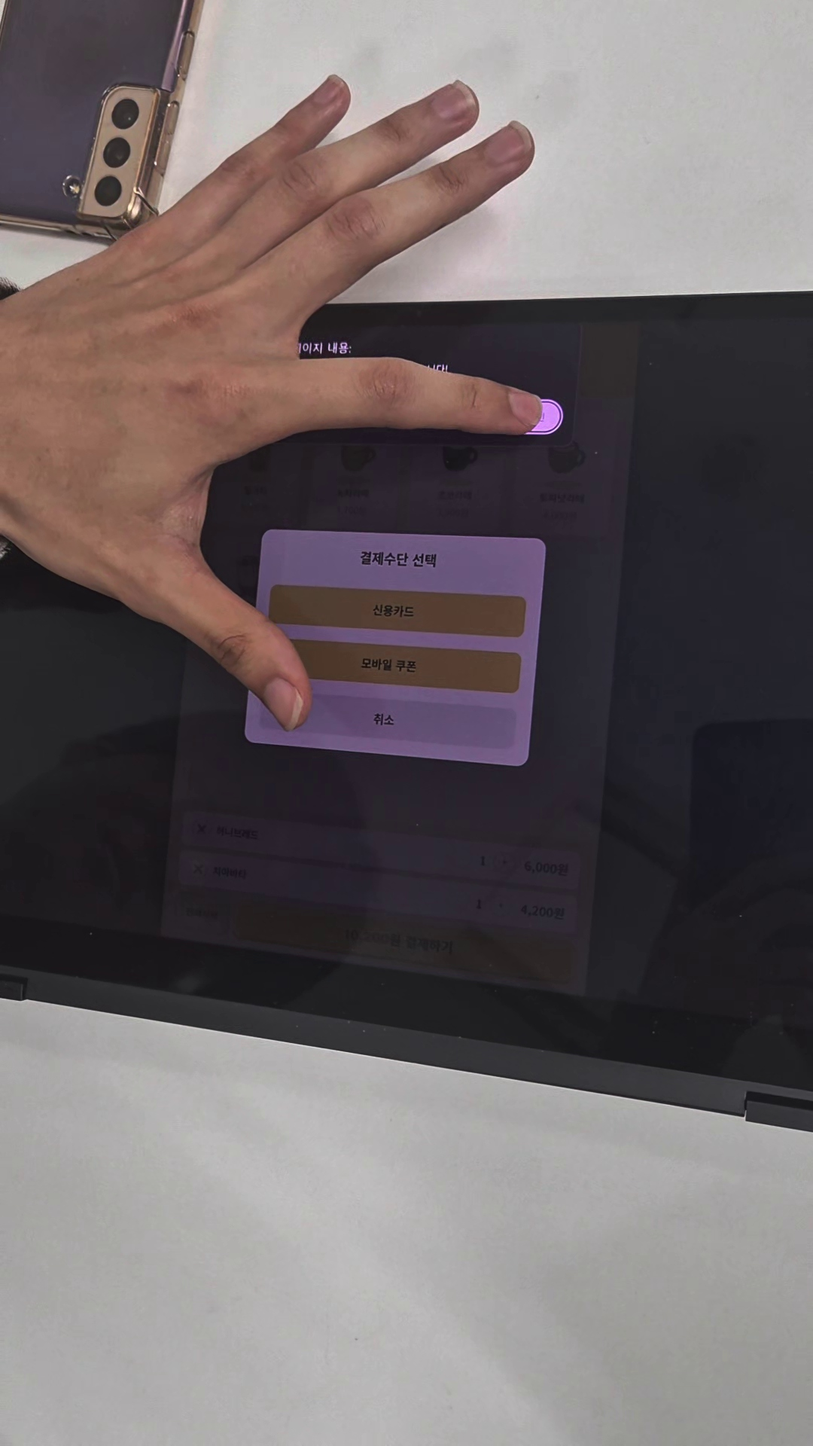action_button: (236, 900, 579, 985), (257, 691, 517, 751), (269, 584, 527, 638), (264, 640, 522, 693), (179, 895, 228, 933)
cart_item: (180, 850, 581, 932), (184, 810, 585, 891)
popup_modal: (244, 529, 547, 767)
